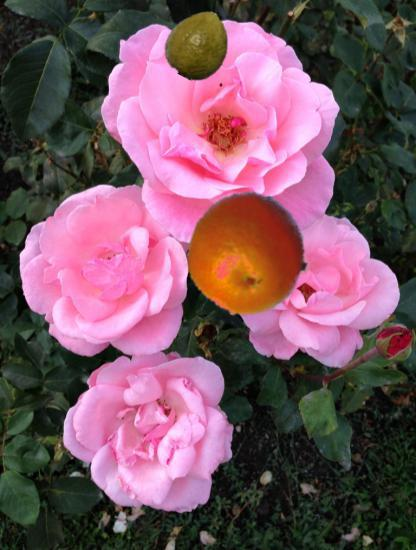Guava: (163, 9, 234, 80)
Tangelo: (186, 192, 312, 318)
